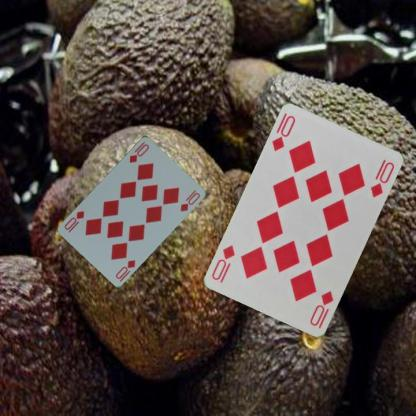10d: (307, 288, 335, 330), (269, 113, 297, 153), (127, 138, 150, 164), (113, 257, 136, 283)
